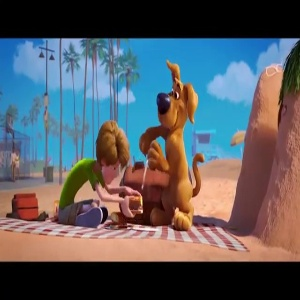Scooby: (156, 61, 206, 137)
Shagy: (93, 121, 129, 186)
